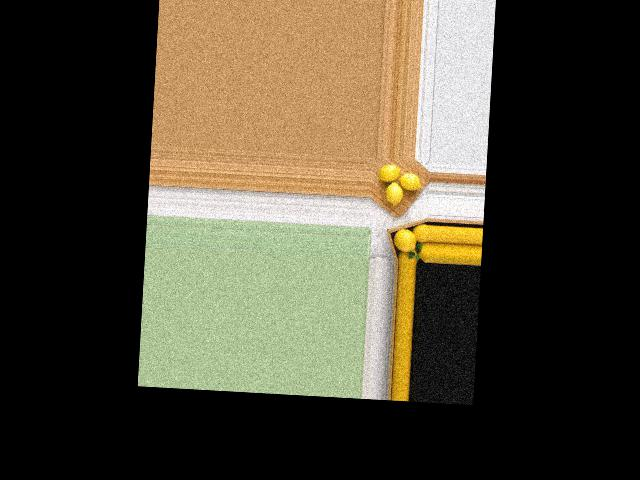lemon: (374, 161, 401, 187)
